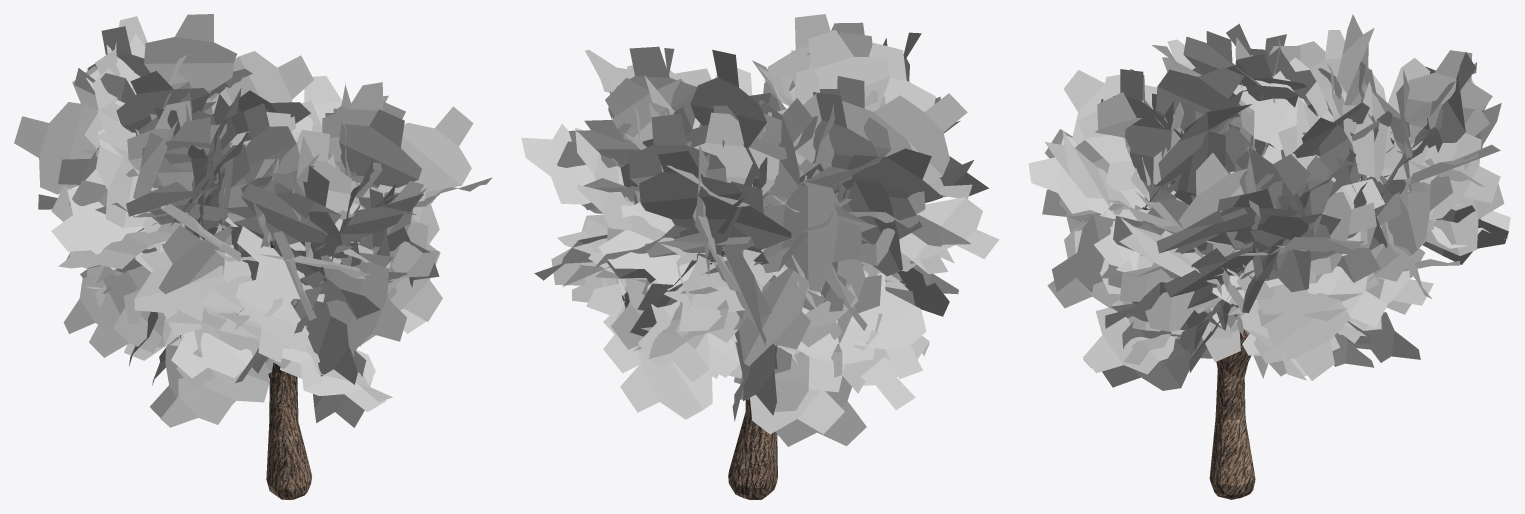
Rendered from ArbolVar2.fbx.
3 renders of one model, left to right at view 1: azimuth 30°, elevation 25°; view 2: azimuth 150°, elevation 25°; view 3: azimuth 270°, elevation 25°, orthographic. The views are drawn at different scales.
Visible parts, largest first — view 1: Cube|Plane|Dupli|82, Cube, Cube|Plane|Dupli|262, Cube|Plane|Dupli|256, Cube|Plane|Dupli|159, Cube|Plane|Dupli|244, Cube|Plane|Dupli|129, Cube|Plane|Dupli|218, Cube|Plane|Dupli|258, Cube|Plane|Dupli|198, Cube|Plane|Dupli|41, Cube|Plane|Dupli|47 (+58 smaller); view 2: Cube|Plane|Dupli|260, Cube|Plane|Dupli|254, Cube|Plane|Dupli|10, Cube|Plane|Dupli|103, Cube|Plane|Dupli|41, Cube|Plane|Dupli|256, Cube|Plane|Dupli|8, Cube, Cube|Plane|Dupli|5, Cube|Plane|Dupli|251, Cube|Plane|Dupli|261, Cube|Plane|Dupli|197 (+64 smaller); view 3: Cube, Cube|Plane|Dupli|245, Cube|Plane|Dupli|155, Cube|Plane|Dupli|270, Cube|Plane|Dupli|165, Cube|Plane|Dupli|267, Cube|Plane|Dupli|229, Cube|Plane|Dupli|81, Cube|Plane|Dupli|74, Cube|Plane|Dupli|206, Cube|Plane|Dupli|244, Cube|Plane|Dupli|148 (+65 smaller).
Part boxes in pixels (<box>): Cube|Plane|Dupli|82: <box>235,226,309,362</box>; Cube: <box>266,240,311,499</box>; Cube|Plane|Dupli|262: <box>350,106,473,222</box>; Cube|Plane|Dupli|256: <box>144,14,236,93</box>; Cube|Plane|Dupli|159: <box>14,102,97,194</box>; Cube|Plane|Dupli|244: <box>339,109,421,188</box>; Cube|Plane|Dupli|129: <box>321,255,406,351</box>; Cube|Plane|Dupli|218: <box>234,183,327,273</box>; Cube|Plane|Dupli|258: <box>210,51,313,144</box>; Cube|Plane|Dupli|198: <box>134,224,223,336</box>; Cube|Plane|Dupli|41: <box>63,265,150,333</box>; Cube|Plane|Dupli|47: <box>158,225,232,294</box>; Cube|Plane|Dupli|260: <box>762,185,861,292</box>; Cube|Plane|Dupli|254: <box>639,151,747,256</box>; Cube|Plane|Dupli|10: <box>734,267,810,366</box>; Cube|Plane|Dupli|103: <box>620,345,712,419</box>; Cube|Plane|Dupli|41: <box>847,273,926,379</box>; Cube|Plane|Dupli|256: <box>690,49,766,186</box>; Cube|Plane|Dupli|8: <box>789,29,890,111</box>; Cube: <box>710,260,777,499</box>; Cube|Plane|Dupli|5: <box>848,179,922,276</box>; Cube|Plane|Dupli|251: <box>899,197,999,260</box>; Cube|Plane|Dupli|261: <box>598,202,695,290</box>; Cube|Plane|Dupli|197: <box>842,148,942,202</box>; Cube: <box>1142,207,1255,499</box>; Cube|Plane|Dupli|245: <box>1229,284,1350,380</box>; Cube|Plane|Dupli|155: <box>1381,129,1500,219</box>; Cube|Plane|Dupli|270: <box>1101,69,1176,202</box>; Cube|Plane|Dupli|165: <box>1404,50,1492,145</box>; Cube|Plane|Dupli|267: <box>1155,67,1244,128</box>; Cube|Plane|Dupli|229: <box>1119,262,1242,331</box>; Cube|Plane|Dupli|81: <box>1077,74,1152,209</box>; Cube|Plane|Dupli|74: <box>1342,81,1402,181</box>; Cube|Plane|Dupli|206: <box>1083,307,1177,374</box>; Cube|Plane|Dupli|244: <box>1178,153,1246,276</box>; Cube|Plane|Dupli|148: <box>1382,175,1453,250</box>.
Bounding box in the file's own units: 494 × 550 × 521.
